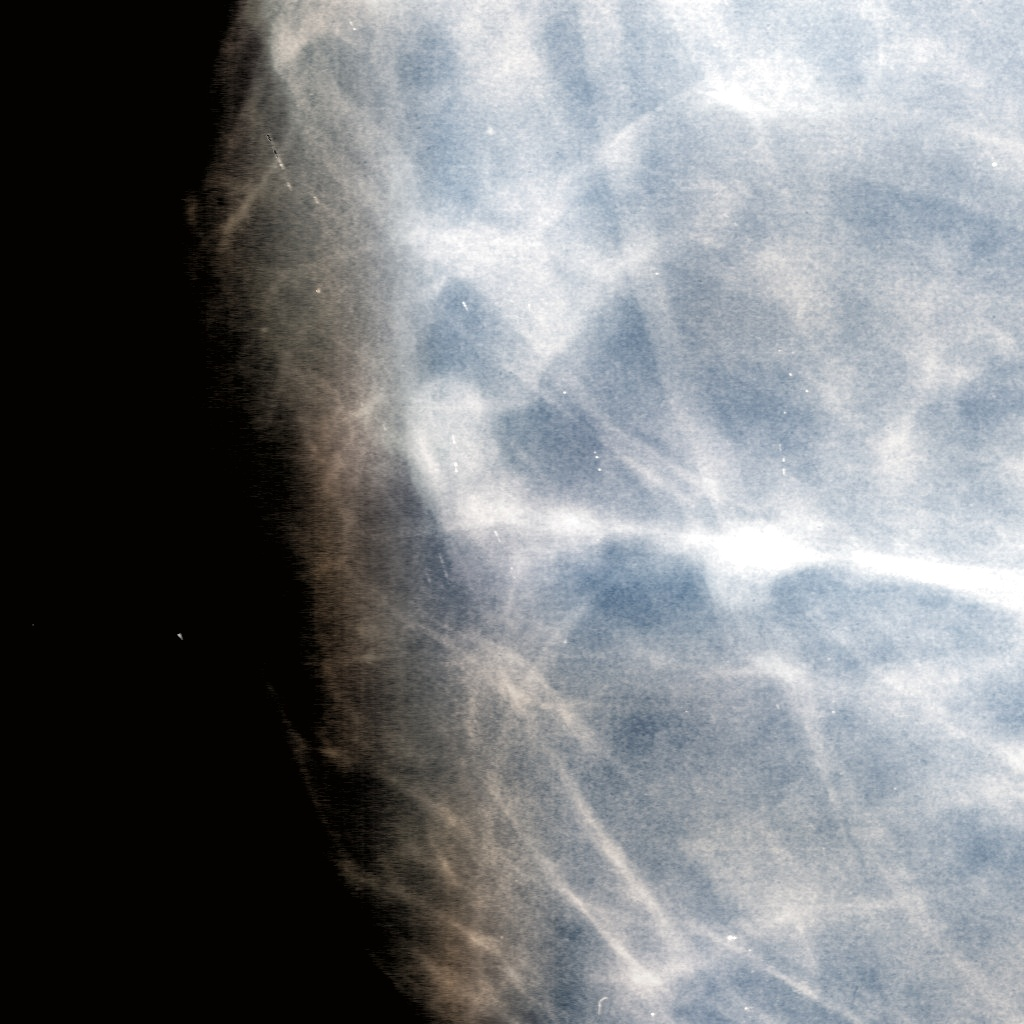tumor: (400, 410, 624, 614)
